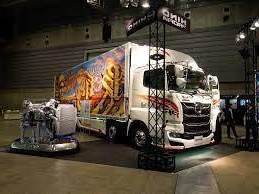truck: (53, 41, 220, 149)
